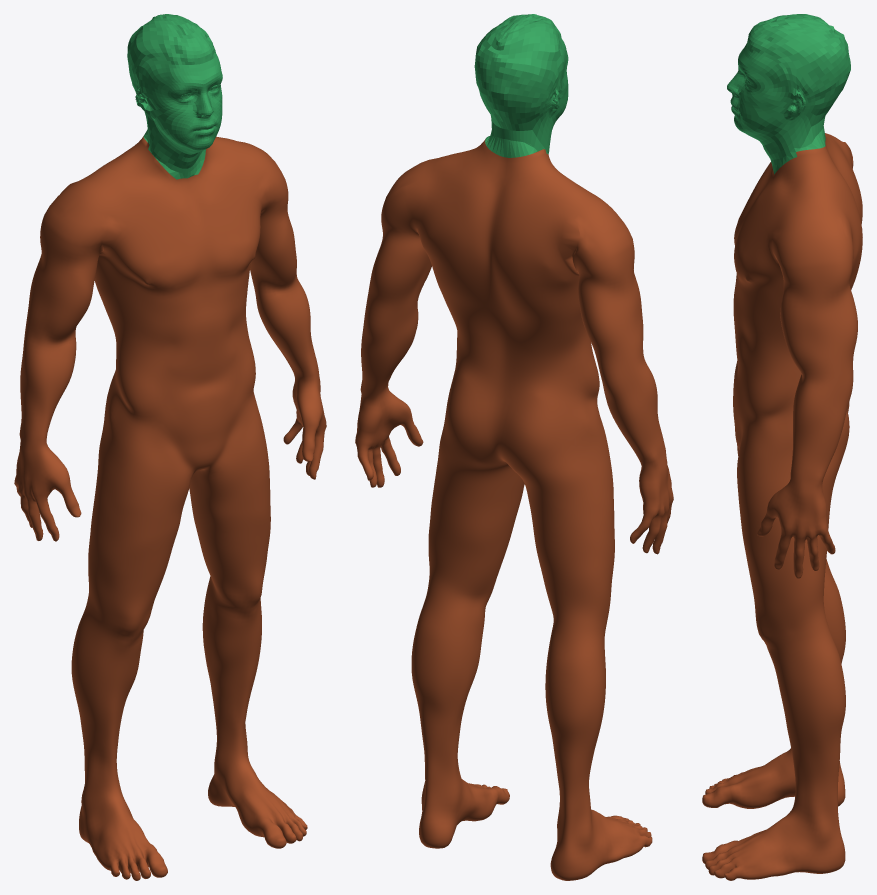
File: body_3.obj
3 views of the same model, side by side, from view 1: azimuth 30°, elevation 25°; view 2: azimuth 150°, elevation 25°; view 3: azimuth 270°, elevation 25° (orthographic). The views are drawn at different scales.
Visible parts, largest first — view 1: Group1.001; view 2: Group1.001; view 3: Group1.001.
Part boxes in pixels (bbox=[...]): Group1.001: bbox=[14, 14, 326, 880]; Group1.001: bbox=[355, 14, 673, 880]; Group1.001: bbox=[702, 14, 862, 880].
Bounding box in the file's own units: 8.16 × 21.17 × 3.77.
